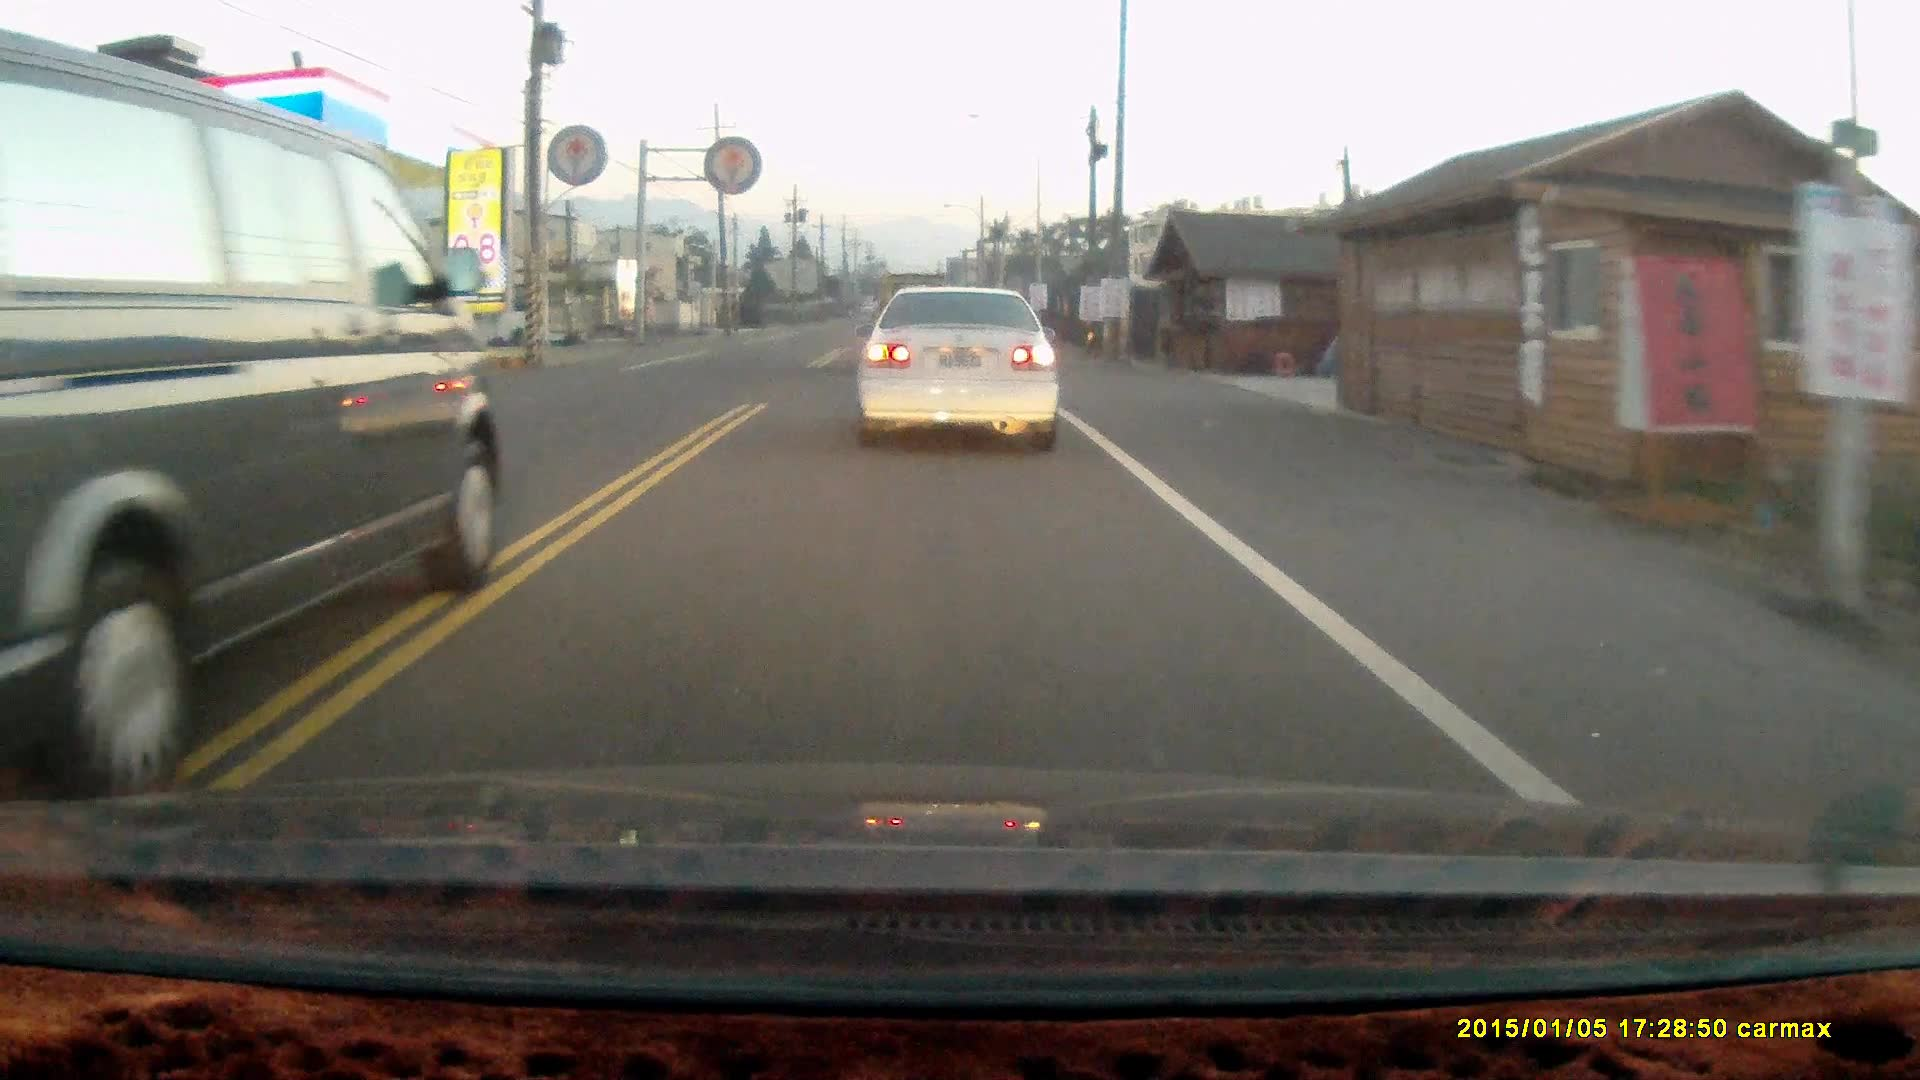vehicle: (1, 37, 502, 785), (855, 280, 1065, 458)
